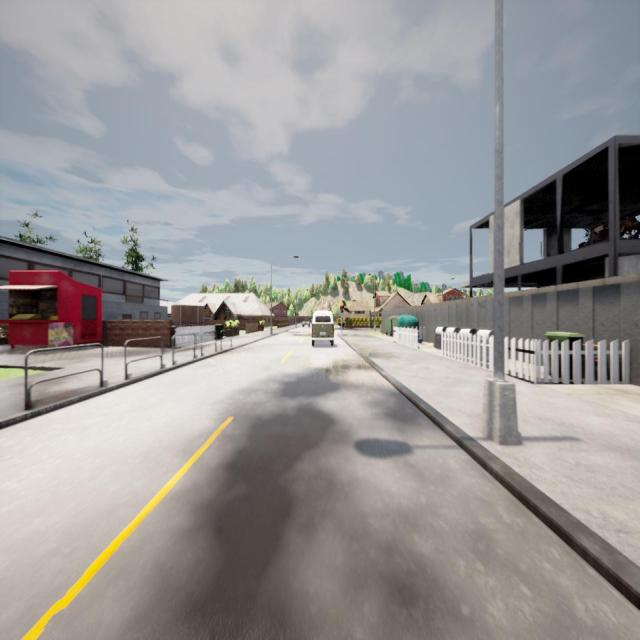Vehicle: (312, 311, 334, 345), (302, 318, 310, 327)
traffic_light: (340, 303, 344, 313)
